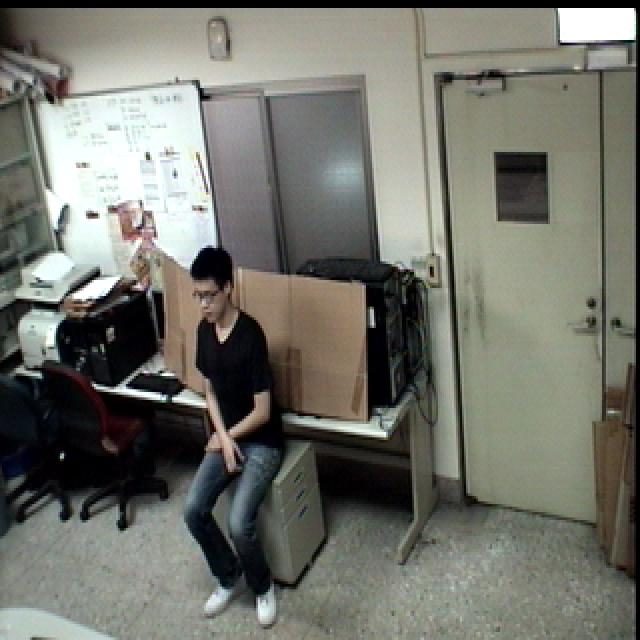sit: (170, 239, 287, 636)
